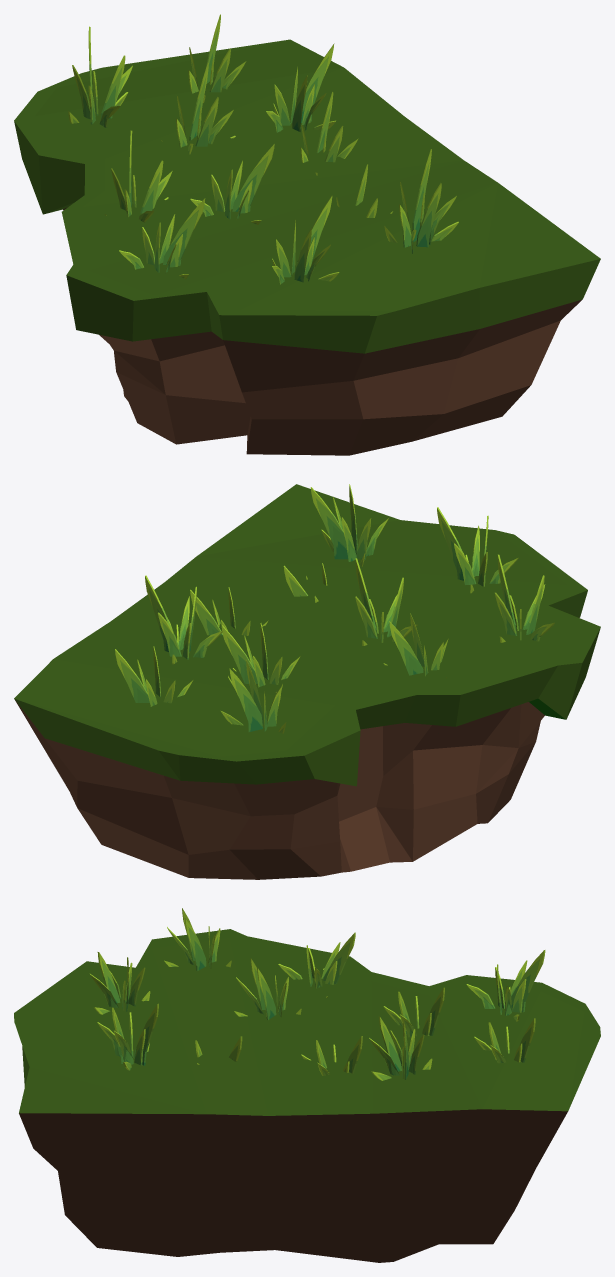
Rendered from ground (1).fbx.
3 views of the same model, one above another, from view 1: azimuth 30°, elevation 25°; view 2: azimuth 150°, elevation 25°; view 3: azimuth 270°, elevation 25° (orthographic). The views are drawn at different scales.
Parts seen in each view (by area): view 1: Plane.009; view 2: Plane.009; view 3: Plane.009.
Boxes of the visible parts, bbox=[...] form: Plane.009: bbox=[14, 14, 600, 455]; Plane.009: bbox=[14, 484, 600, 879]; Plane.009: bbox=[14, 908, 600, 1262].
Size of the model in its own units: 115 by 71.01 by 154.
Materials: 2 (2 with a texture image).
